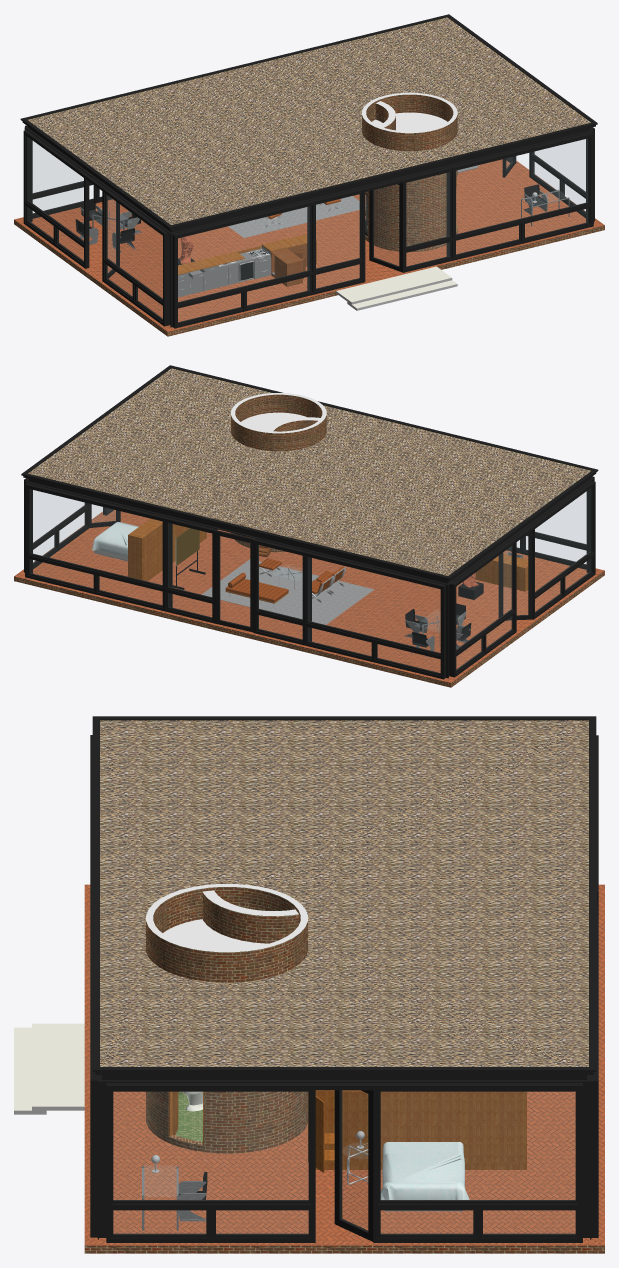
Rendered from The Glass House HabitatNow.obj.
The picture shows the model from 3 angles, top to bottom: view 1: azimuth 30°, elevation 25°; view 2: azimuth 150°, elevation 25°; view 3: azimuth 270°, elevation 25°; orthographic projection. The views are drawn at different scales.
Visible parts, largest first — view 1: Mesh66 Difference1 Group1 Model, Mesh14 Group18 Group1 Model, Mesh25 Difference2 Group1 Model, Mesh28 Group34 Group1 Model, Mesh18 Intersection Group1 Model, Mesh43 Group56 Group1 Model, Mesh69 Group89 Group1 Model, Mesh48 Group62 Group1 Model, Mesh144 Group194 Group162 Group158 Group143 Group139 Model, Mesh76 Difference1_1 Group1 Model, Mesh179 Group223 Group222 Group221 Group143 Group139 Model, Mesh27 Group31 Group1 Model (+11 smaller); view 2: Mesh66 Difference1 Group1 Model, Mesh14 Group18 Group1 Model, Mesh179 Group223 Group222 Group221 Group143 Group139 Model, Mesh18 Intersection Group1 Model, Mesh93 Group123 Group1 Model, Mesh43 Group56 Group1 Model, Mesh94 Group124 Group1 Model, Mesh566 Component_40_1 Group143 Group139 Model, Mesh64 Group84 Group1 Model, Mesh76 Difference1_1 Group1 Model, Mesh75 Group96 Group1 Model, Mesh144 Group194 Group162 Group158 Group143 Group139 Model (+14 smaller); view 3: Mesh66 Difference1 Group1 Model, Mesh14 Group18 Group1 Model, Mesh97 Group128 Group1 Model, Mesh18 Intersection Group1 Model, Mesh25 Difference2 Group1 Model, Mesh606 Group268 Group259 modern_bed_with_padded_headboard1 Grou, Mesh50 Group64 Group1 Model, Mesh13 Group17 Group1 Model, Mesh76 Difference1_1 Group1 Model, Mesh55 Group69 Group1 Model, Mesh178 Group220 Group143 Group139 Model, Mesh171 Group214 Group143 Group139 Model (+16 smaller).
Boxes of the visible parts, x1,y1,x2,y2 form: Mesh66 Difference1 Group1 Model: (20, 14, 597, 228); Mesh14 Group18 Group1 Model: (14, 159, 604, 336); Mesh25 Difference2 Group1 Model: (365, 170, 457, 251); Mesh28 Group34 Group1 Model: (172, 178, 402, 328); Mesh18 Intersection Group1 Model: (362, 92, 457, 151); Mesh43 Group56 Group1 Model: (23, 130, 167, 326); Mesh69 Group89 Group1 Model: (401, 132, 593, 272); Mesh48 Group62 Group1 Model: (170, 128, 593, 234); Mesh144 Group194 Group162 Group158 Group143 Group139 Model: (178, 234, 316, 297); Mesh76 Difference1_1 Group1 Model: (22, 112, 595, 230); Mesh179 Group223 Group222 Group221 Group143 Group139 Model: (228, 196, 365, 237); Mesh27 Group31 Group1 Model: (455, 137, 590, 236); Mesh66 Difference1 Group1 Model: (21, 365, 598, 579); Mesh14 Group18 Group1 Model: (14, 510, 604, 687); Mesh179 Group223 Group222 Group221 Group143 Group139 Model: (202, 559, 374, 624); Mesh18 Intersection Group1 Model: (231, 393, 326, 451); Mesh93 Group123 Group1 Model: (253, 538, 445, 679); Mesh43 Group56 Group1 Model: (451, 481, 595, 677); Mesh94 Group124 Group1 Model: (25, 483, 217, 623); Mesh566 Component_40_1 Group143 Group139 Model: (128, 518, 206, 581); Mesh64 Group84 Group1 Model: (25, 479, 448, 585); Mesh76 Difference1_1 Group1 Model: (23, 412, 596, 581); Mesh75 Group96 Group1 Model: (215, 530, 254, 632); Mesh144 Group194 Group162 Group158 Group143 Group139 Model: (475, 554, 528, 591); Mesh66 Difference1 Group1 Model: (92, 716, 596, 1071); Mesh14 Group18 Group1 Model: (14, 884, 604, 1253); Mesh97 Group128 Group1 Model: (106, 1083, 582, 1242); Mesh18 Intersection Group1 Model: (146, 884, 307, 982); Mesh25 Difference2 Group1 Model: (146, 1091, 307, 1153); Mesh606 Group268 Group259 modern_bed_with_padded_headboard1 Grou: (380, 1142, 469, 1199); Mesh50 Group64 Group1 Model: (97, 1075, 591, 1082); Mesh13 Group17 Group1 Model: (202, 890, 298, 943); Mesh76 Difference1_1 Group1 Model: (95, 919, 593, 1074); Mesh55 Group69 Group1 Model: (334, 1090, 373, 1241); Mesh178 Group220 Group143 Group139 Model: (464, 1091, 495, 1161); Mesh171 Group214 Group143 Group139 Model: (496, 1091, 526, 1161).
Bounding box in the file's own units: 17.56 × 4.74 × 12.15.
